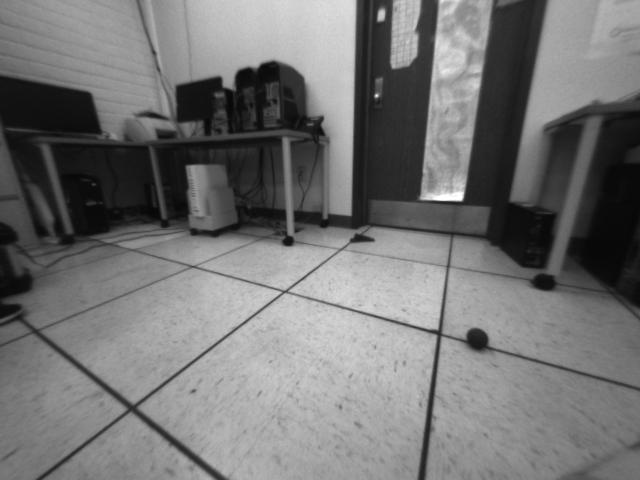dogtoy: (461, 322, 493, 354)
